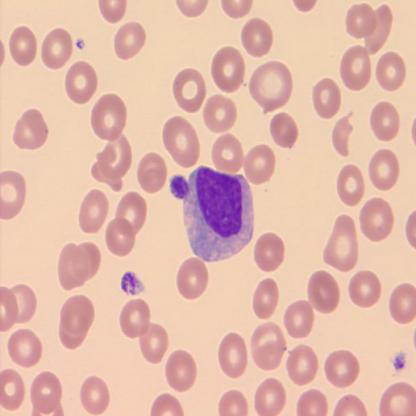Metamyelocyte: (180, 163, 258, 265)
